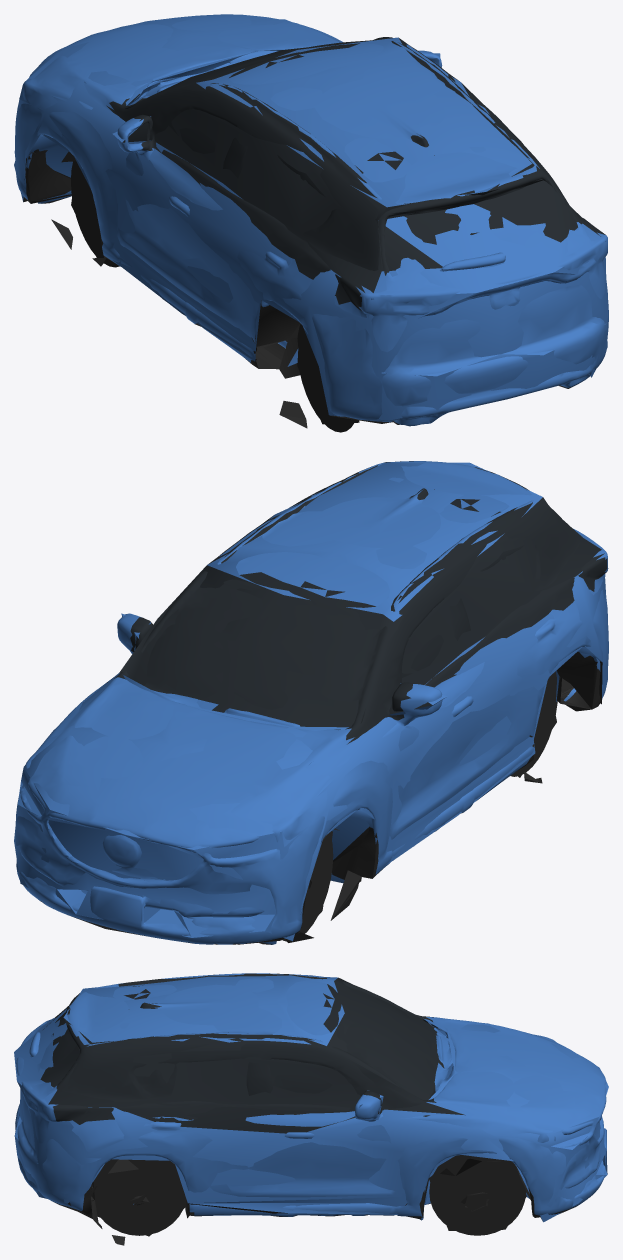
File: mazda-cx-5.glb
3 views of the same model, one above another, from view 1: azimuth 30°, elevation 25°; view 2: azimuth 150°, elevation 25°; view 3: azimuth 270°, elevation 25° (orthographic). The views are drawn at different scales.
Parts seen in each view (by area): view 1: body, far; view 2: body, far; view 3: body, far.
Boxes of the visible parts, x1,y1,x2,y2 form: body: (14,14,608,432); far: (14,19,607,424); body: (15,461,608,944); far: (14,462,606,941); body: (15,973,606,1245); far: (14,975,608,1236).
Bounding box in the file's own units: 2.16 × 1.7 × 4.6.
